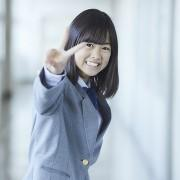tyoki: (42, 26, 86, 75)
